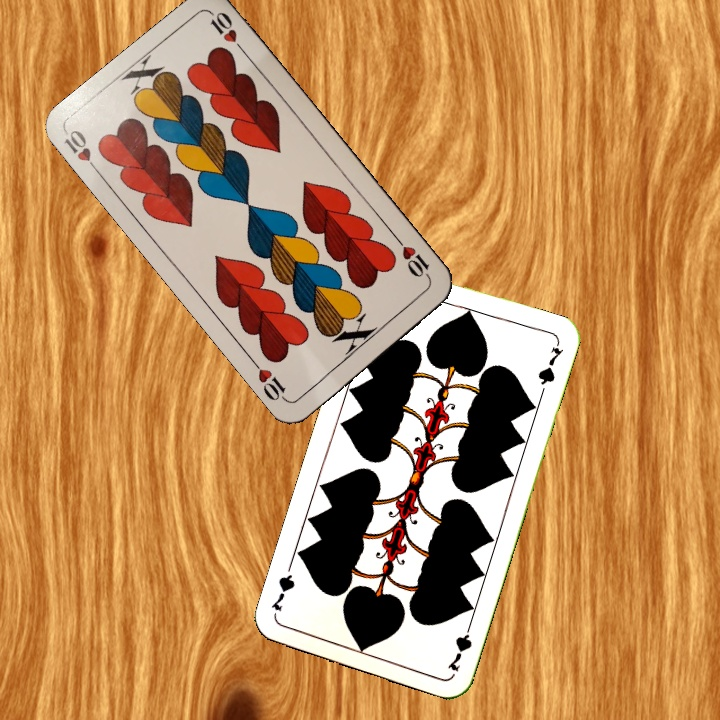G7: (443, 617, 475, 675)
H10: (60, 125, 104, 178), (392, 234, 434, 284)
